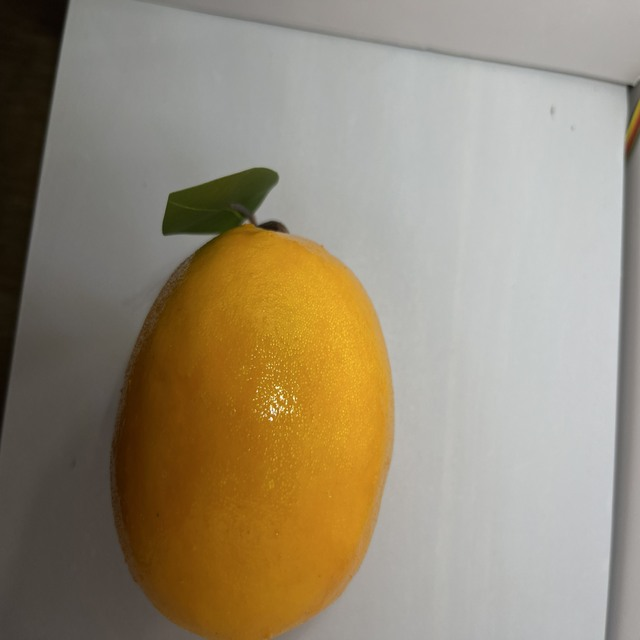Cam vang: (102, 210, 401, 640)
